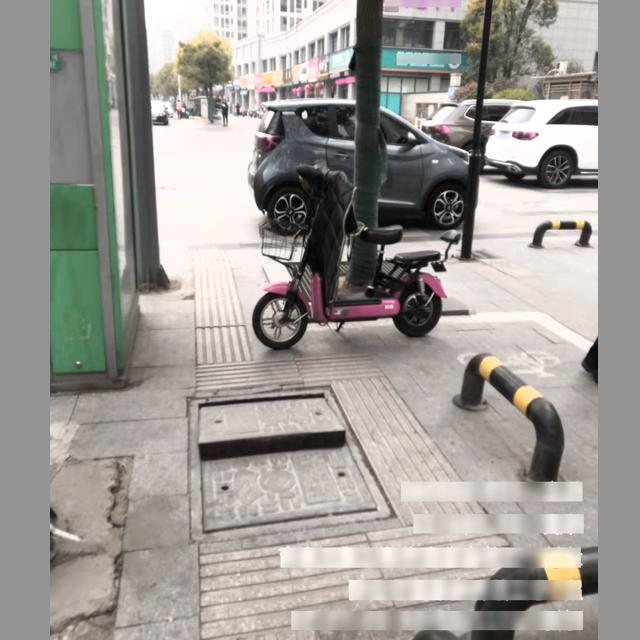uncovered: (188, 388, 398, 545)
